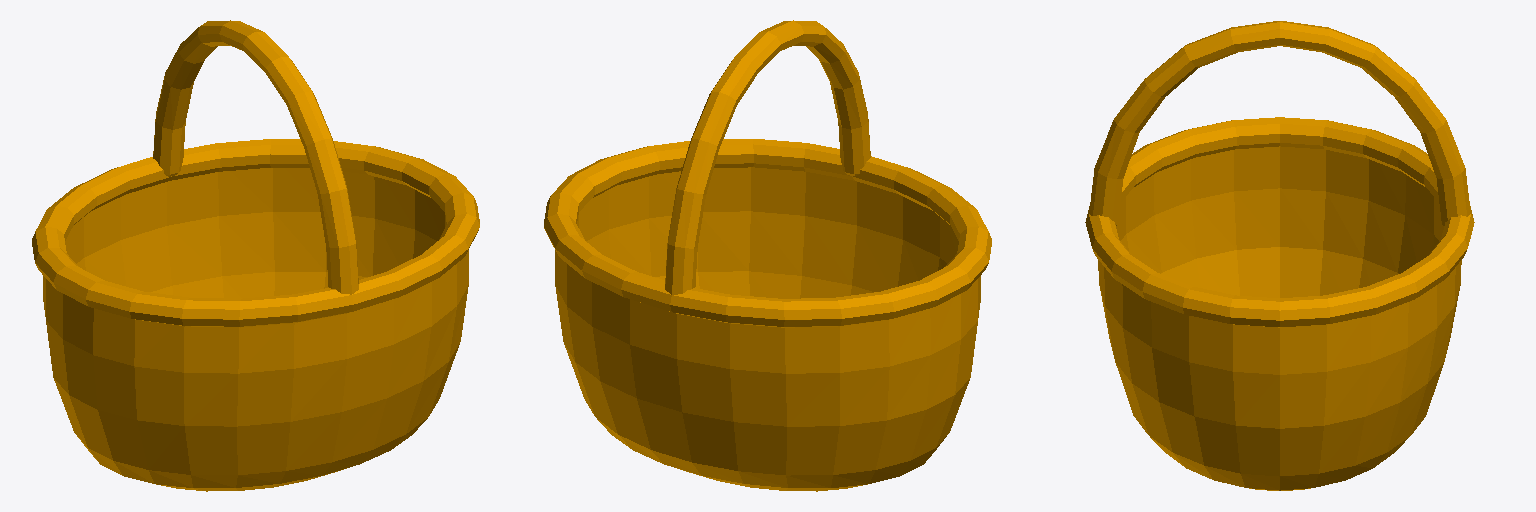
URDF robot description (none):
<robot name="none">
       <link name="none">
           <visual>
               <origin rpy="1.57 0 0" xyz="0 0 0" />
               <geometry>
                   <mesh filename="shopping-basket.obj" />
               </geometry>
           </visual>
          <collision>
              <geometry>
                  <box size="0.981866 1.000000 0.821304" />
              </geometry>
          </collision>

          <inertial>
            <mass value="0.0" />
            <inertia ixx="0.0" ixy="0.0" ixz="0.0" iyy="0.0" iyz="0.0" izz="0.0" />
          </inertial>
      </link>
  </robot>

--- Render facts (derived) ---
3 views of the same robot in one strip: view 1: azimuth 30°, elevation 25°; view 2: azimuth 150°, elevation 25°; view 3: azimuth 270°, elevation 25° (orthographic).
Model none with 1 links and 0 joints (none), rooted at none, posed every joint at zero.
Visible links, largest first — view 1: none; view 2: none; view 3: none.
Boxes of the visible links, x1,y1,x2,y2 form: none: [32, 20, 479, 491]; none: [544, 20, 991, 491]; none: [1085, 21, 1474, 490].
Size in the robot's own frame: 0.9819 by 0.8213 by 1 metres.
1 mesh visuals loaded from 1 distinct referenced files (1 OBJ).